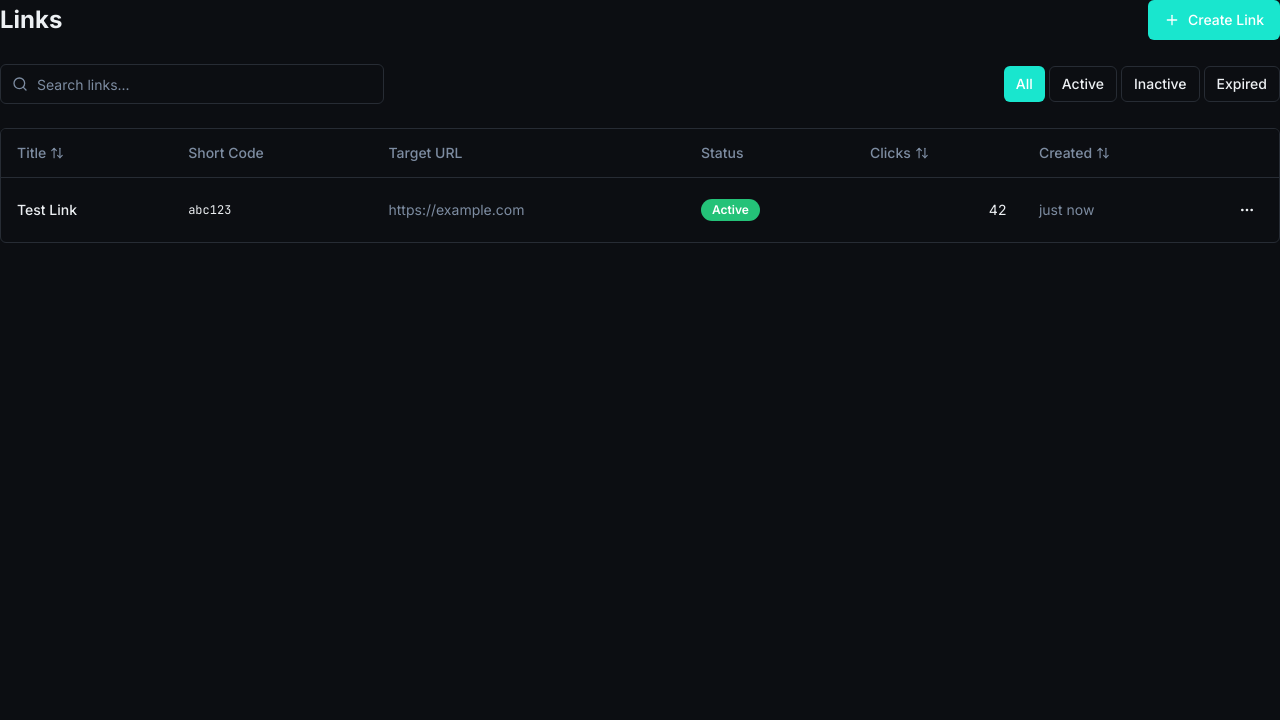
it: LinksPage › shows Create Link button that opens dialog
The width and height of the screenshot is (1280, 720).
Expected: the text "Test Link" is shown, [1,177,172,242]
Click the button "Create Link" at [1214, 20], box [1148,0,1279,40]
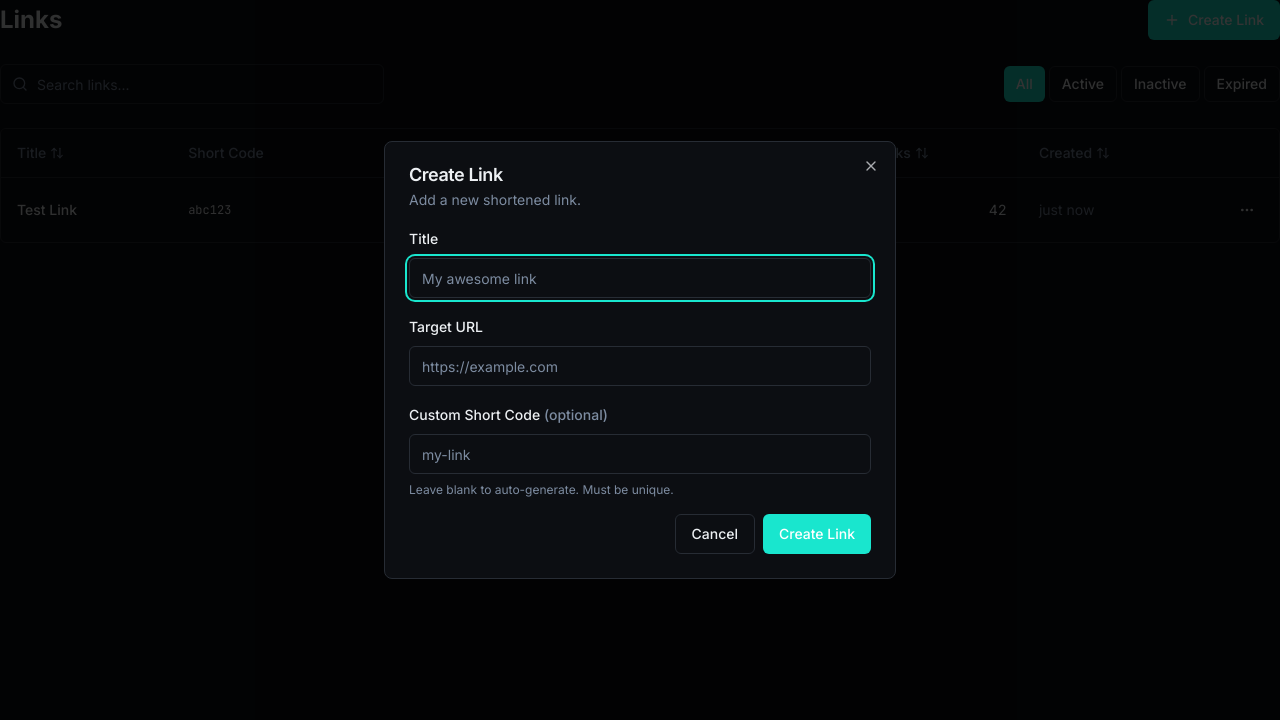
Now the text "Add a new shortened link." is shown, box [409,191,581,208]
